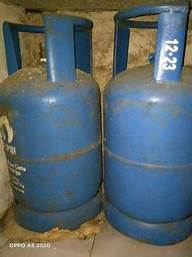blue_gas: (1, 15, 103, 232), (102, 6, 192, 245)
